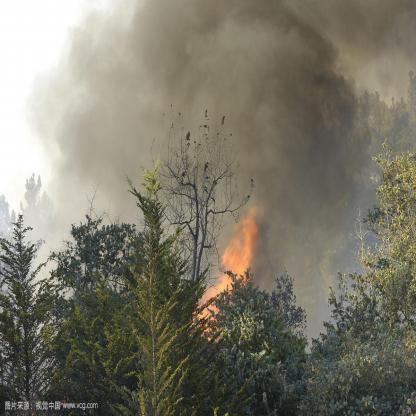fire: (224, 242, 250, 276), (240, 210, 258, 242), (206, 277, 230, 297)
